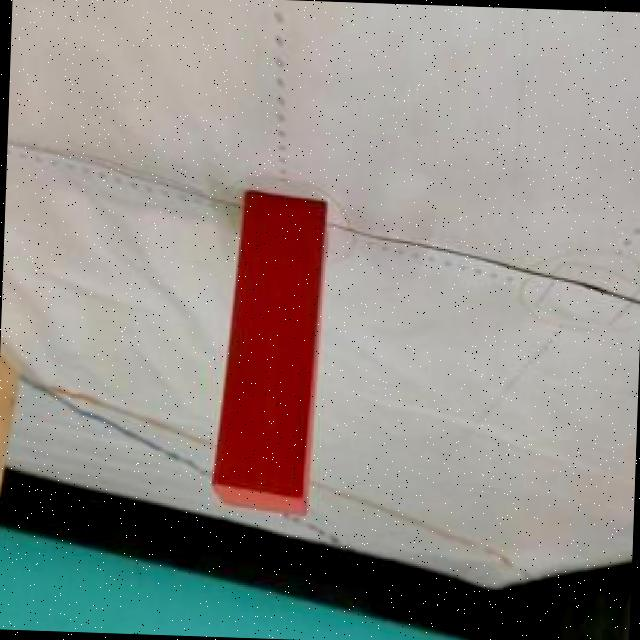redbox: (208, 188, 329, 520)
